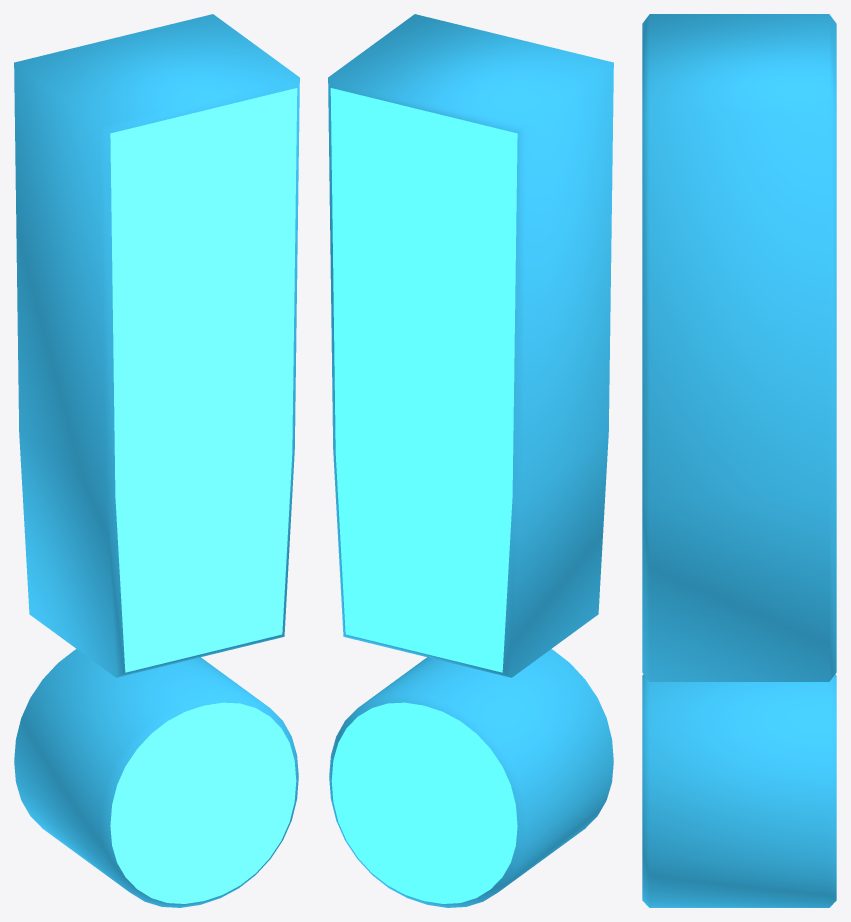
3 renders of one model, left to right at view 1: azimuth 30°, elevation 25°; view 2: azimuth 150°, elevation 25°; view 3: azimuth 270°, elevation 25°, orthographic. The views are drawn at different scales.
Visible parts, largest first — view 1: glyph; view 2: glyph; view 3: glyph.
Part boxes in pixels (box(x1,y1,x2,y2)): glyph: box(14, 14, 299, 907); glyph: box(328, 14, 613, 907); glyph: box(642, 14, 836, 907).
Size of the model in its own units: 0.0199 by 0.0766 by 0.0162.
